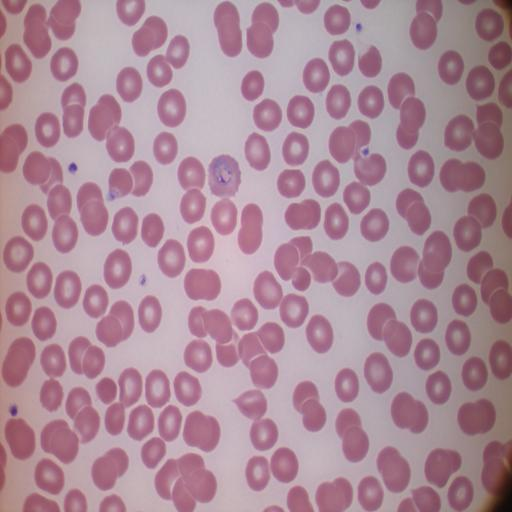Infected: (208, 154, 241, 197)
Uninfected: (176, 452, 218, 503), (418, 231, 452, 285), (41, 419, 81, 464), (91, 447, 129, 492), (213, 2, 244, 56), (2, 337, 36, 386), (88, 94, 123, 141), (131, 15, 169, 58), (376, 446, 411, 492), (395, 95, 427, 145), (183, 409, 220, 452), (440, 158, 484, 194), (390, 392, 428, 433), (23, 7, 53, 57), (424, 447, 460, 488), (4, 417, 38, 460), (481, 441, 510, 491), (237, 202, 264, 254), (77, 194, 109, 237), (457, 399, 494, 436), (184, 266, 221, 302), (22, 149, 57, 187), (48, 1, 83, 39), (471, 119, 504, 159), (96, 311, 131, 348), (315, 478, 353, 512), (0, 124, 28, 170), (273, 242, 305, 282), (380, 317, 412, 357), (246, 17, 277, 58), (353, 150, 387, 187), (338, 422, 370, 461), (389, 245, 420, 285), (103, 248, 133, 289), (231, 388, 268, 421), (3, 235, 35, 273), (367, 302, 397, 342), (284, 199, 319, 233), (303, 250, 337, 285), (444, 114, 476, 151), (201, 307, 233, 344), (401, 197, 432, 235), (157, 88, 187, 127), (253, 273, 286, 308), (155, 459, 183, 500), (105, 125, 136, 162), (248, 353, 279, 390), (329, 124, 359, 162), (363, 353, 392, 392), (68, 336, 97, 375), (73, 405, 102, 444), (238, 332, 270, 367), (409, 12, 439, 49), (157, 239, 186, 277), (53, 270, 82, 308), (5, 44, 33, 83), (34, 459, 65, 494), (453, 215, 483, 251), (467, 193, 497, 229), (209, 199, 238, 236), (186, 226, 215, 263), (305, 315, 334, 352), (112, 207, 140, 245), (51, 216, 79, 254), (26, 261, 54, 299), (465, 65, 495, 100), (297, 397, 327, 432), (387, 72, 416, 108), (331, 261, 360, 297), (270, 448, 299, 484), (50, 46, 79, 82), (407, 150, 435, 187), (144, 369, 171, 407), (481, 268, 510, 303), (63, 388, 92, 423), (127, 404, 155, 440), (21, 204, 48, 241), (252, 98, 282, 131), (249, 418, 279, 451), (118, 368, 144, 406), (279, 293, 308, 327), (184, 340, 213, 374), (230, 298, 259, 332), (312, 161, 340, 196), (173, 371, 201, 406), (5, 291, 33, 326), (437, 50, 465, 85), (180, 187, 207, 223), (40, 342, 67, 378), (34, 112, 61, 148), (177, 156, 206, 189), (360, 208, 389, 241), (146, 54, 175, 87), (475, 8, 504, 41), (410, 299, 438, 333), (282, 132, 310, 166), (256, 322, 284, 356), (461, 356, 489, 390), (446, 476, 474, 510), (323, 203, 350, 238), (244, 133, 271, 168), (115, 66, 142, 101), (157, 405, 183, 441), (445, 319, 471, 355), (343, 181, 371, 214), (357, 85, 385, 118), (302, 58, 330, 91), (107, 167, 135, 200), (357, 477, 385, 510), (325, 84, 352, 118), (328, 40, 355, 74), (138, 295, 162, 333), (83, 284, 109, 319), (31, 306, 57, 341), (452, 284, 478, 319), (277, 168, 307, 198), (141, 212, 166, 248), (128, 160, 153, 196), (487, 286, 512, 322), (323, 4, 352, 35), (286, 95, 314, 127), (357, 45, 384, 78), (425, 370, 452, 403), (488, 341, 512, 378), (334, 368, 360, 402), (245, 456, 271, 490), (413, 338, 440, 370), (153, 131, 179, 164), (40, 378, 64, 412), (61, 83, 87, 114), (141, 437, 166, 469), (166, 35, 190, 68), (411, 485, 440, 512), (241, 70, 265, 102), (63, 106, 86, 139), (287, 485, 315, 512), (187, 306, 212, 336), (365, 261, 387, 294), (487, 41, 511, 71), (116, 1, 146, 25), (49, 187, 73, 217), (96, 377, 116, 402)
